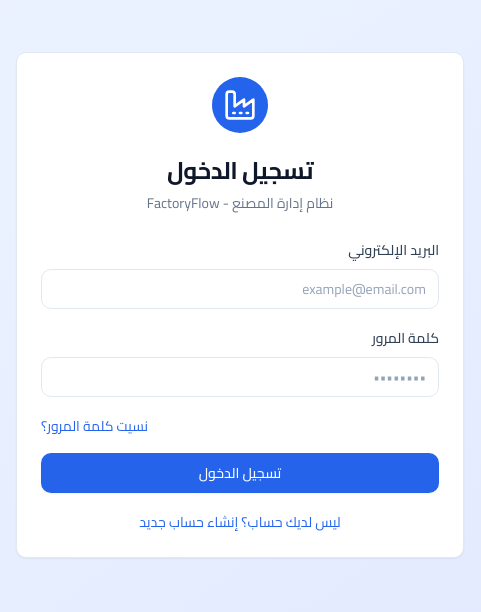
LoginPage › Mode Toggle › switches to signup mode when toggle clicked
Click the button "ليس لديك حساب؟ إنشاء حساب جديد" at (240, 522), box x1=139 y1=512 x2=341 y2=532
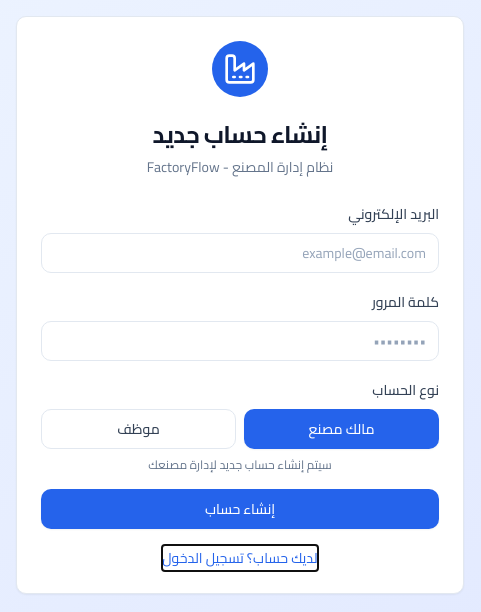
Check: the button "لديك حساب؟ تسجيل الدخول" is shown, box x1=162 y1=548 x2=318 y2=568
Check: the heading "إنشاء حساب جديد" is shown, box x1=152 y1=112 x2=327 y2=157
Check: the button "إنشاء حساب" is shown, box x1=41 y1=489 x2=439 y2=529
